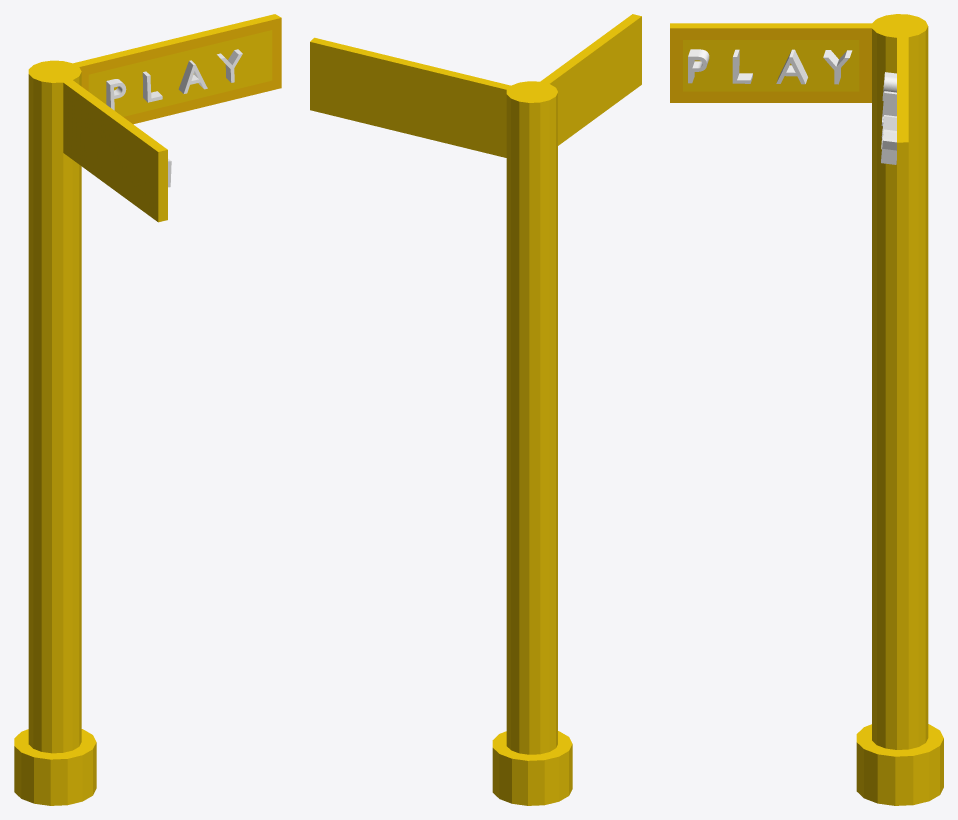
Rendered from Stpose.fbx.
The picture shows the model from 3 angles, left to right: view 1: azimuth 30°, elevation 25°; view 2: azimuth 150°, elevation 25°; view 3: azimuth 270°, elevation 25°; orthographic projection. The views are drawn at different scales.
Visible parts, largest first — view 1: Cylinder; view 2: Cylinder; view 3: Cylinder.
Boxes of the visible parts, box(x1,y1,x2,y2) form: Cylinder: box(14, 14, 281, 805); Cylinder: box(310, 14, 641, 805); Cylinder: box(670, 14, 943, 805).
Size of the model in its own units: 725 by 1902 by 620.
